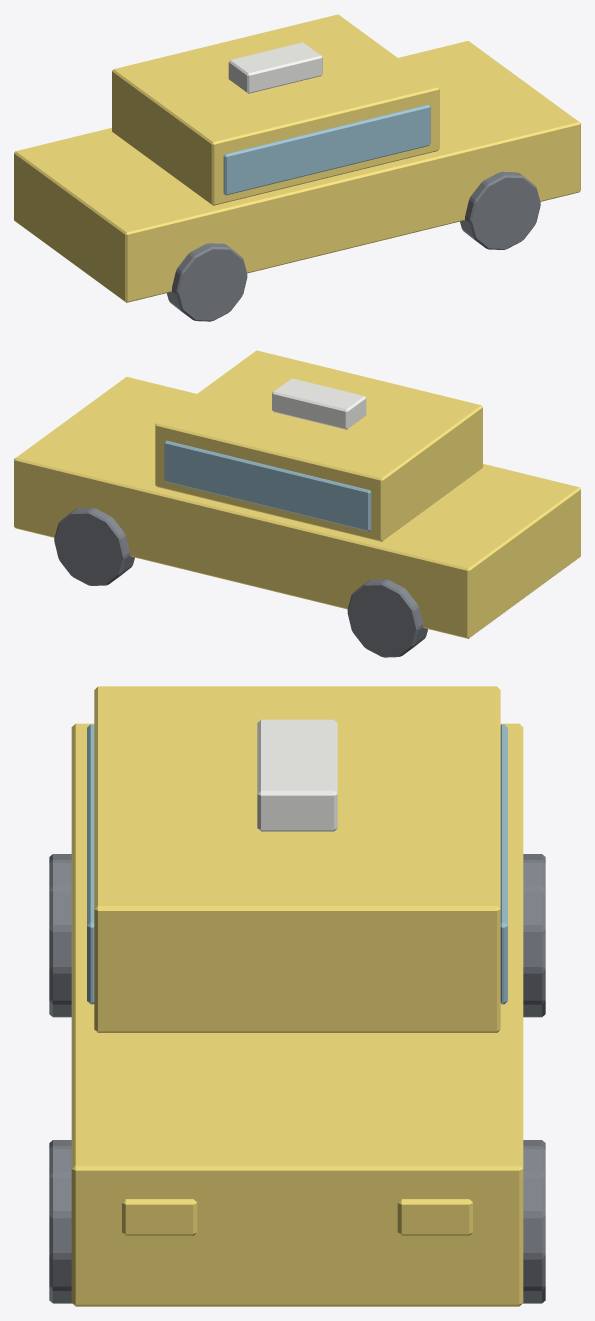
File: 车_出租车_01.fbx
The picture shows the model from 3 angles, top to bottom: view 1: azimuth 30°, elevation 25°; view 2: azimuth 150°, elevation 25°; view 3: azimuth 270°, elevation 25°; orthographic projection. The views are drawn at different scales.
Visible parts, largest first — view 1: 车身.001, 车顶.001, 车轮.003, 车窗.001, 顶灯; view 2: 车身.001, 车顶.001, 车轮.003, 车窗.001, 顶灯; view 3: 车顶.001, 车身.001, 车轮.003, 顶灯, 车灯.001, 车窗.001.
Part boxes in pixels (box(x1,y1,x2,y2)): 车身.001: box(14, 41, 580, 302); 车顶.001: box(112, 14, 439, 205); 车轮.003: box(167, 171, 540, 321); 车窗.001: box(223, 104, 430, 195); 顶灯: box(228, 42, 322, 93); 车身.001: box(14, 377, 580, 638); 车顶.001: box(155, 350, 482, 541); 车轮.003: box(54, 507, 427, 657); 车窗.001: box(164, 440, 371, 531); 顶灯: box(272, 378, 366, 429); 车顶.001: box(94, 686, 500, 1032); 车身.001: box(71, 723, 523, 1306); 车轮.003: box(49, 854, 545, 1303); 顶灯: box(257, 719, 337, 831); 车灯.001: box(122, 1199, 472, 1235); 车窗.001: box(87, 724, 507, 1004).
Size of the model in its own units: 422 by 166 by 198.
